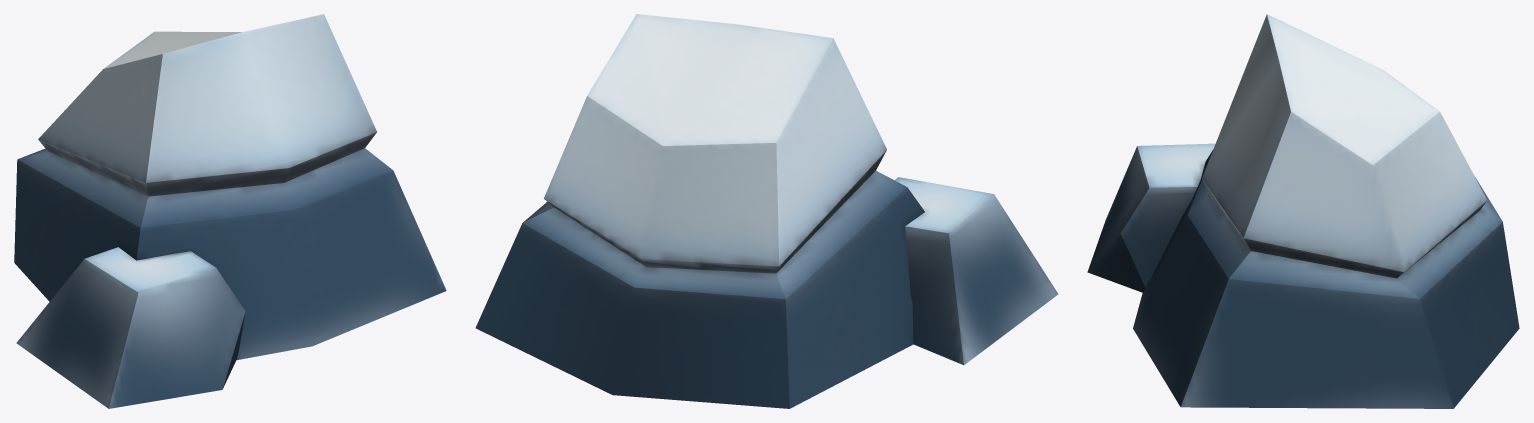
File: Rock_6.fbx
The picture shows the model from 3 angles, left to right: view 1: azimuth 30°, elevation 25°; view 2: azimuth 150°, elevation 25°; view 3: azimuth 270°, elevation 25°; orthographic projection. The views are drawn at different scales.
Parts seen in each view (by area): view 1: Rock_6; view 2: Rock_6; view 3: Rock_6.
Part boxes in pixels (bbox=[...]): Rock_6: bbox=[14, 14, 446, 408]; Rock_6: bbox=[475, 14, 1058, 408]; Rock_6: bbox=[1087, 14, 1519, 408].
Size of the model in its own units: 1.1 by 0.733 by 1.05.
